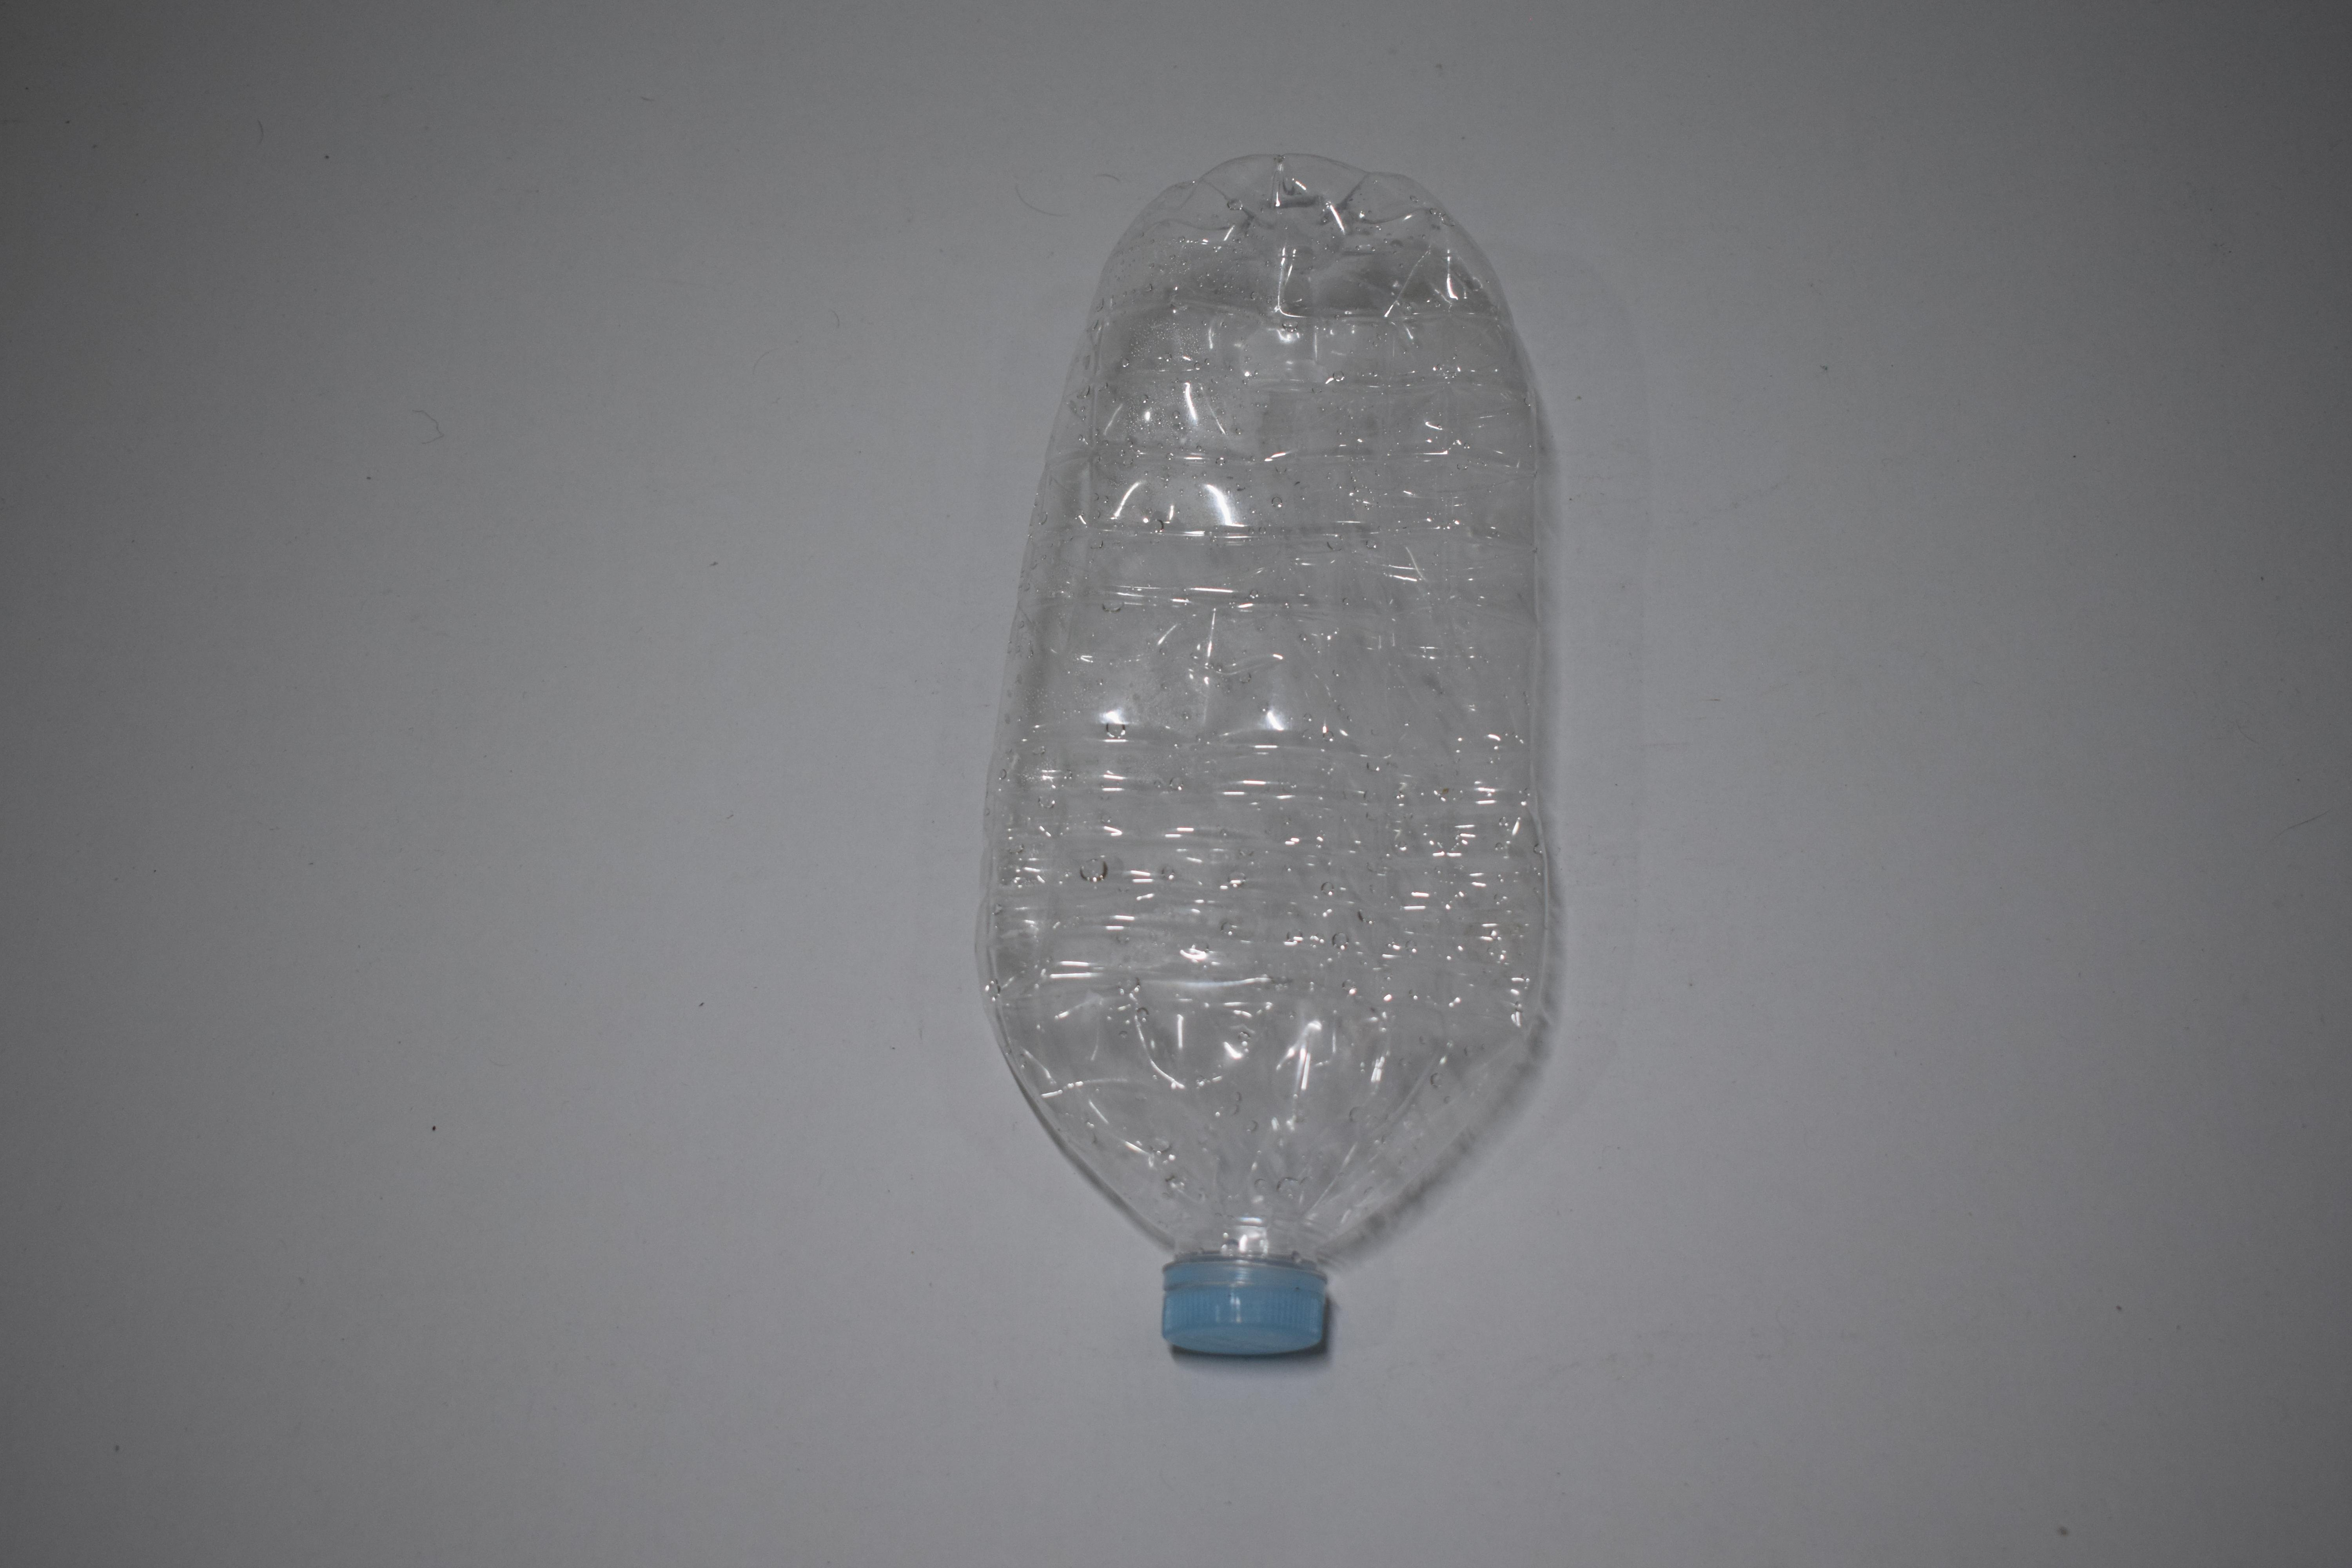bottle: (0, 136, 380, 1360)
